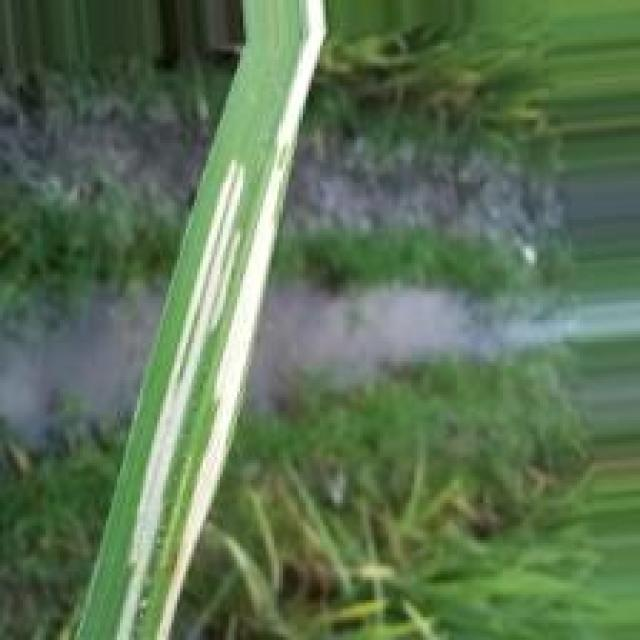Rice_Hispa: (149, 0, 330, 638), (117, 153, 245, 635)
